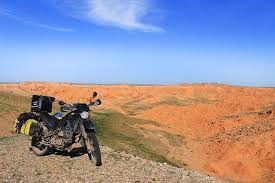motorcycle: (14, 91, 103, 167)
